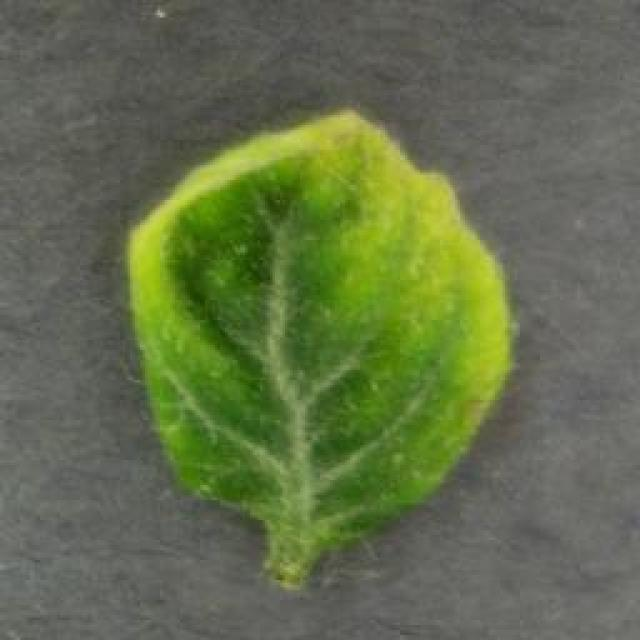Tom_Yellow_Leaf_Curl_Virus: (135, 125, 485, 504)
